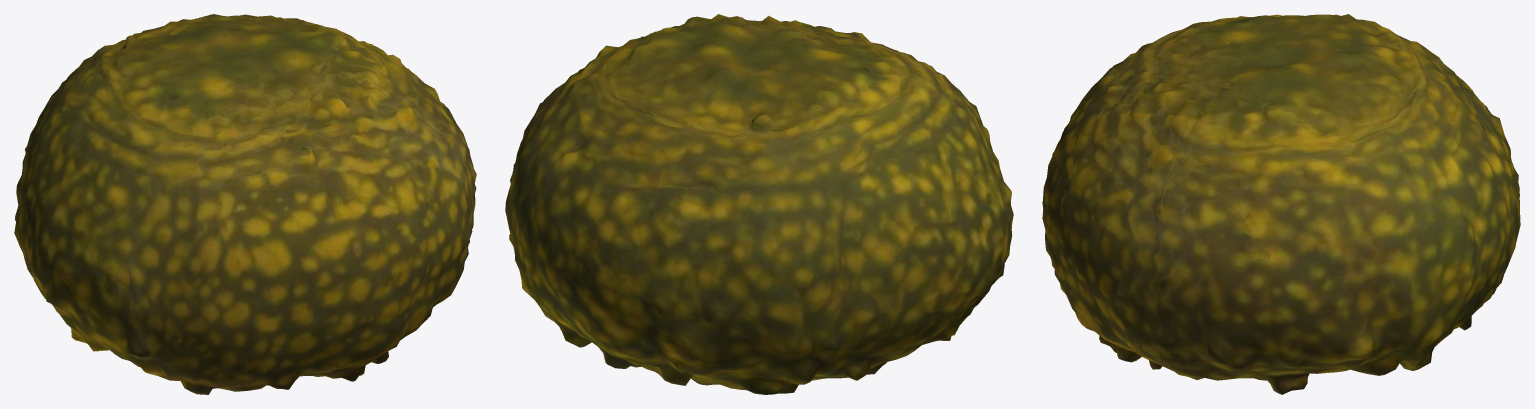
The model's file is ascaris-lumbricoides_H.glb.
The picture shows the model from 3 angles, left to right: view 1: azimuth 30°, elevation 25°; view 2: azimuth 150°, elevation 25°; view 3: azimuth 270°, elevation 25°; orthographic projection. The views are drawn at different scales.
Bounding box in the file's own units: 2 × 1.39 × 1.94.
Materials: 1 (1 with a texture image).
